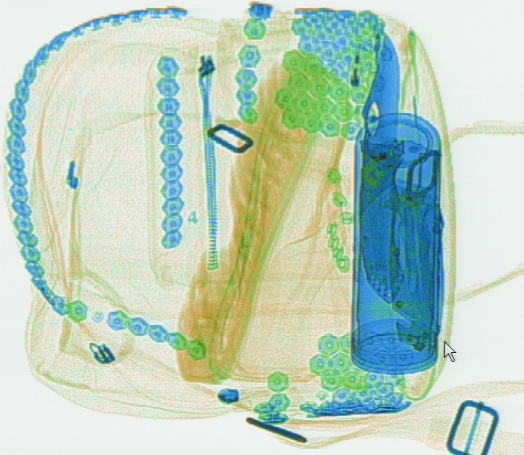knife: (353, 22, 407, 302), (380, 143, 441, 351)
lighter: (341, 17, 378, 127)
